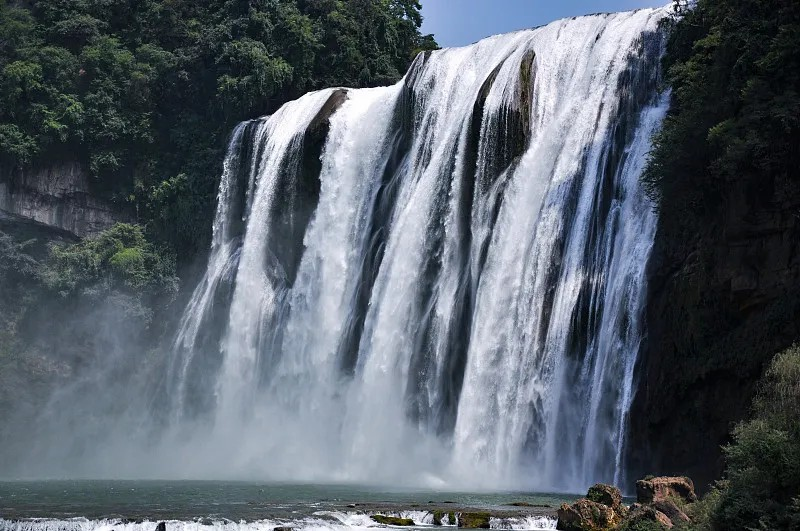Huangguoshu: (184, 2, 659, 493)
